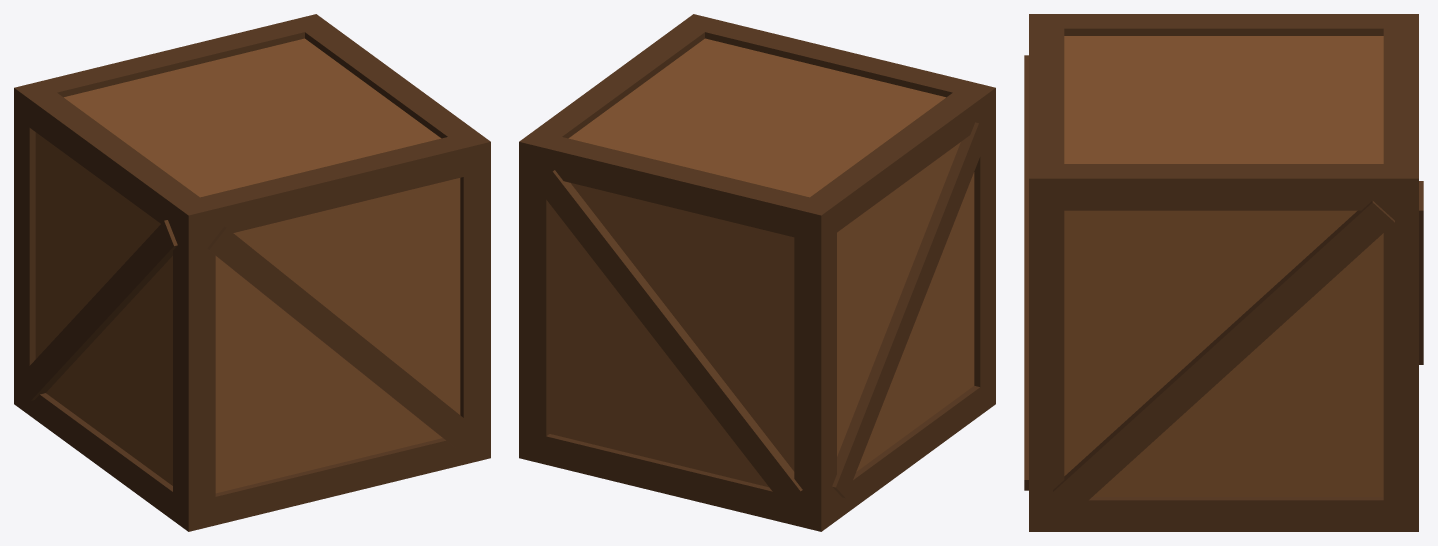
The model's file is Crate_Large.fbx.
3 views of the same model, side by side, from view 1: azimuth 30°, elevation 25°; view 2: azimuth 150°, elevation 25°; view 3: azimuth 270°, elevation 25° (orthographic). The views are drawn at different scales.
Visible parts, largest first — view 1: Crate_Large; view 2: Crate_Large; view 3: Crate_Large.
Boxes of the visible parts, bbox=[...] form: Crate_Large: bbox=[14, 14, 490, 531]; Crate_Large: bbox=[519, 14, 995, 531]; Crate_Large: bbox=[1024, 14, 1423, 531].
Bounding box in the file's own units: 0.82 × 0.8 × 0.82.
